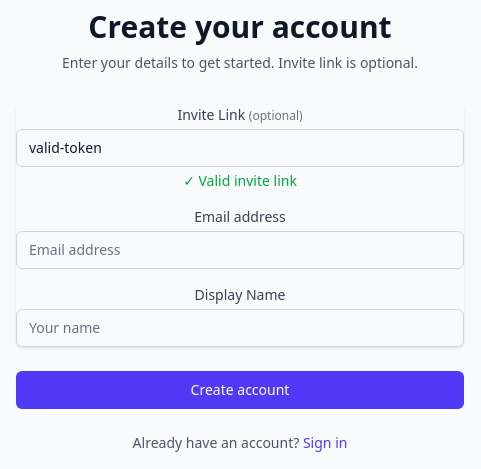
Test: RegisterPage › shows loading state during registration
Expected: the text "✓ Valid invite link" is shown, [183,171,297,190]
Type "test@example.com" into the field labelled "Email address" at [240, 250], box [16,231,464,269]
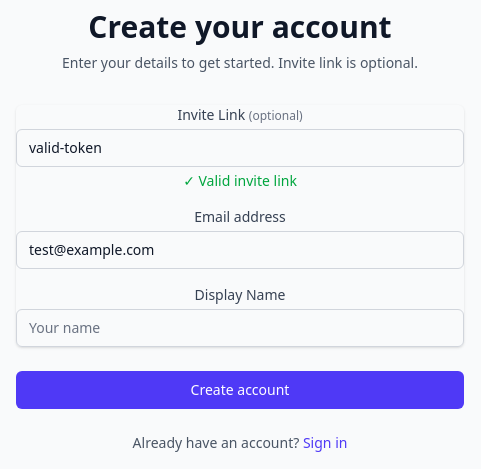
Type "Test User" into the field labelled "Display Name" at [240, 328], box [16,309,464,347]
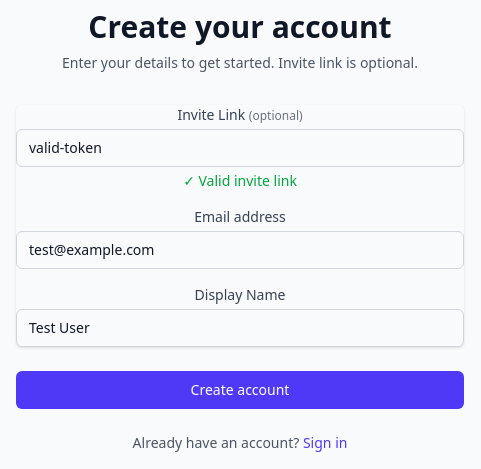
Click the button "Create account" at [240, 390], box [16,371,464,409]
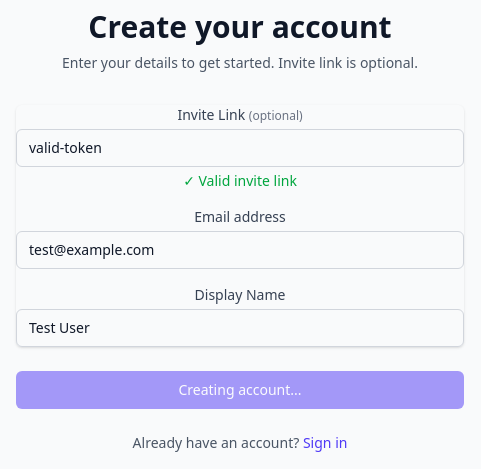
Result: the button "Creating account..." is disabled at [16,371,464,409]
